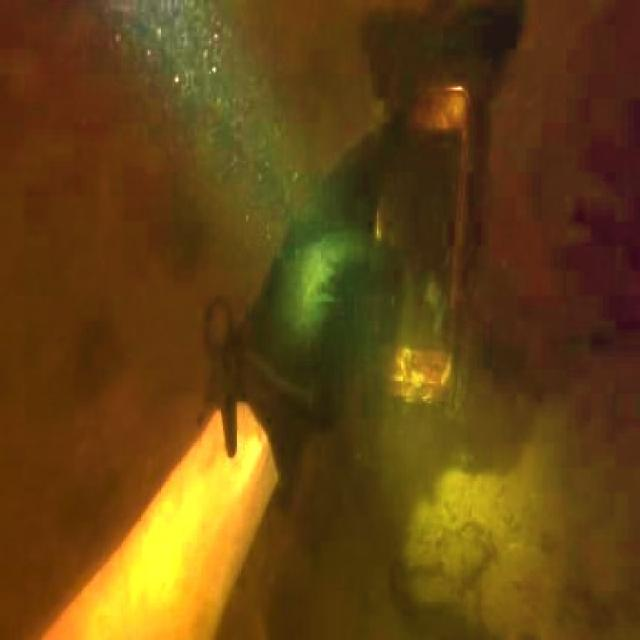cellphone: (368, 86, 470, 400)
